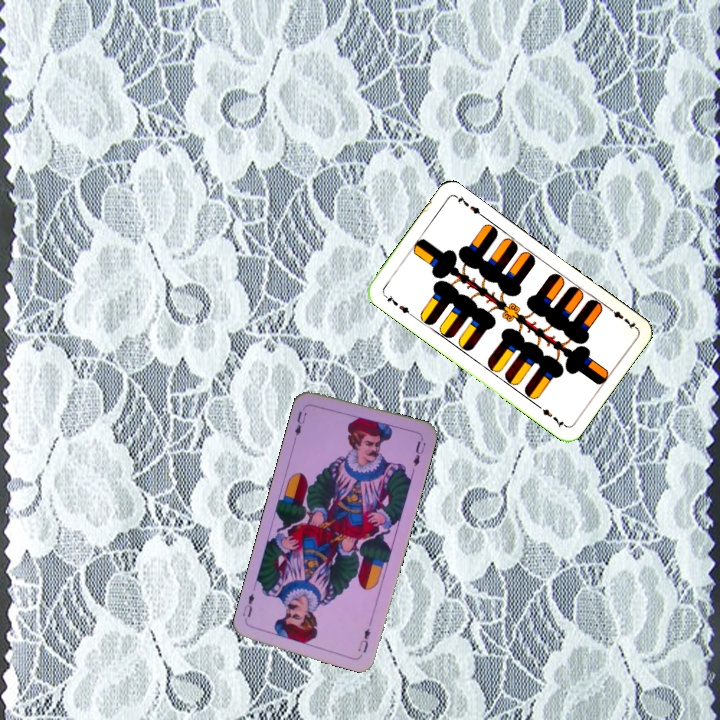E7: (604, 303, 639, 332), (380, 290, 415, 318)
EU: (354, 617, 374, 655), (289, 407, 309, 442)
